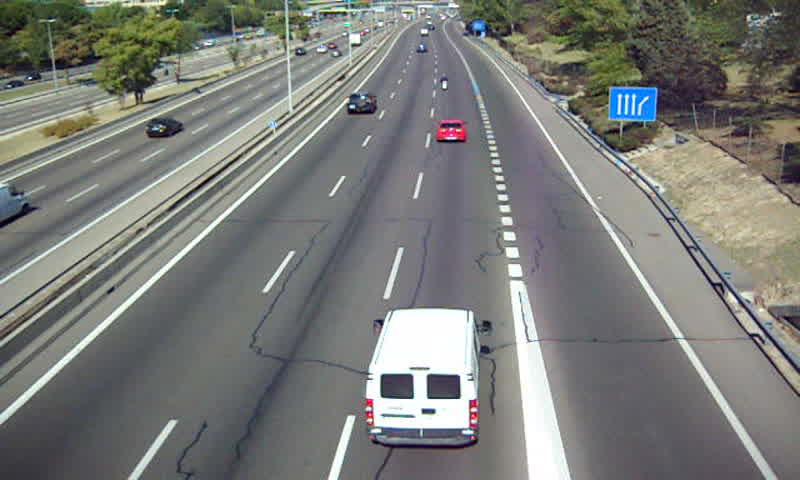car: (345, 92, 377, 114), (437, 119, 467, 142)
motorcycle: (440, 74, 450, 92)
van: (366, 308, 478, 444)
